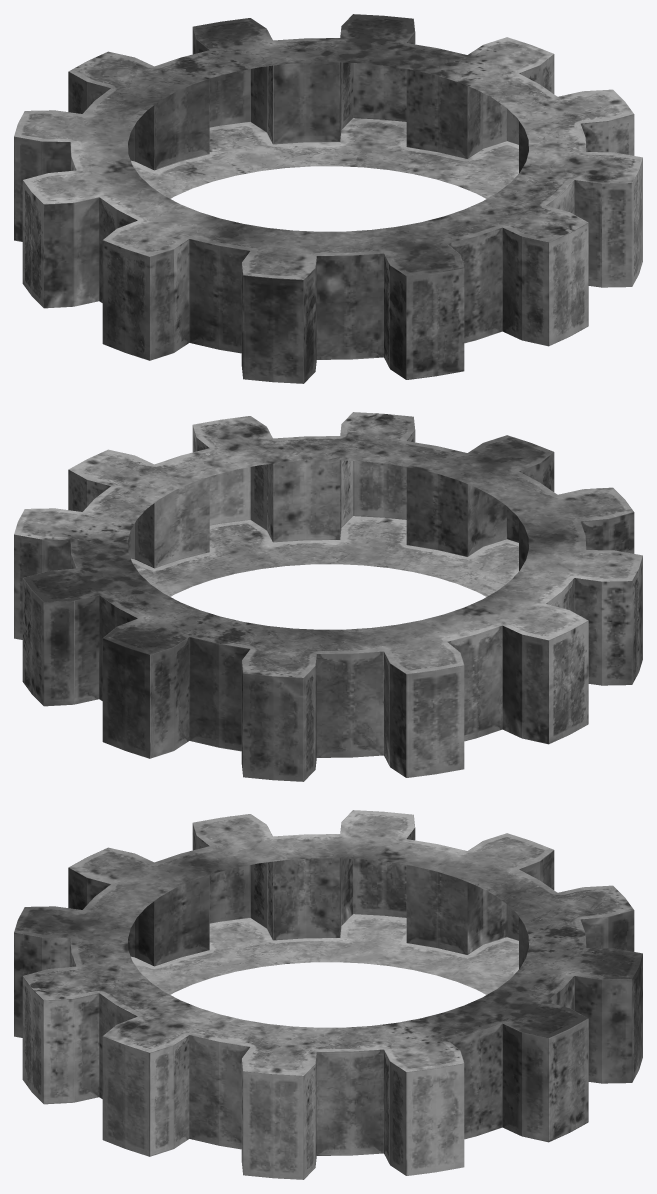
The model's file is Gear.fbx.
3 renders of one model, top to bottom at view 1: azimuth 30°, elevation 25°; view 2: azimuth 150°, elevation 25°; view 3: azimuth 270°, elevation 25°, orthographic.
Parts seen in each view (by area): view 1: Gear; view 2: Gear; view 3: Gear.
Part boxes in pixels (x1,y1,x2,y2): Gear: (14,14,642,383); Gear: (14,412,642,781); Gear: (14,810,642,1179).
Bounding box in the file's own units: 121 × 22.08 × 121.
1 material, 1 textured.
